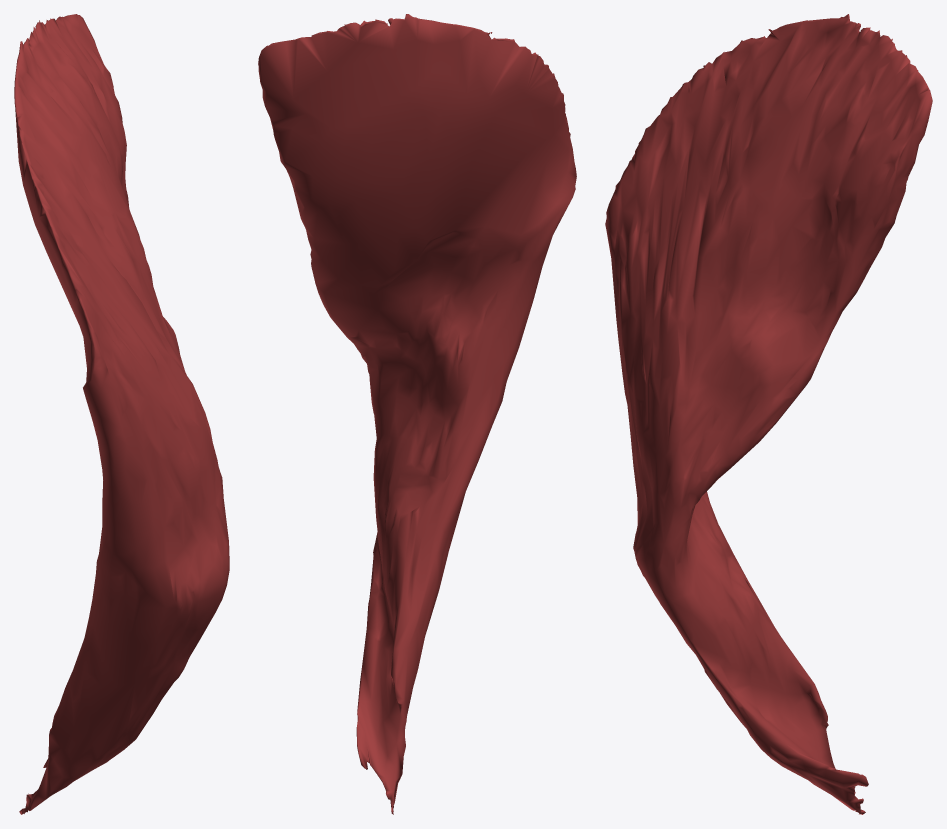
The model's file is iliacus-muscle-r.glb.
The picture shows the model from 3 angles, left to right: view 1: azimuth 30°, elevation 25°; view 2: azimuth 150°, elevation 25°; view 3: azimuth 270°, elevation 25°; orthographic projection. The views are drawn at different scales.
Visible parts, largest first — view 1: Iliacus muscle.r; view 2: Iliacus muscle.r; view 3: Iliacus muscle.r.
Boxes of the visible parts, left/top/right/bottom form: Iliacus muscle.r: left=14, top=14, right=229, bottom=814; Iliacus muscle.r: left=258, top=14, right=576, bottom=814; Iliacus muscle.r: left=605, top=14, right=932, bottom=814.
Size of the model in its own units: 0.0561 by 0.2316 by 0.0862.
